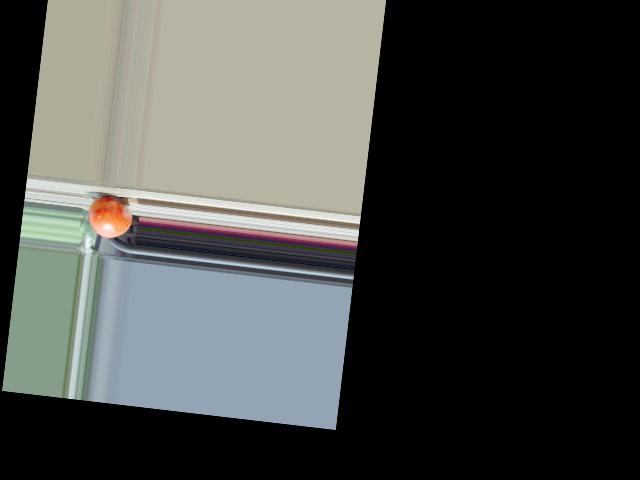tomato: (85, 195, 133, 240)
